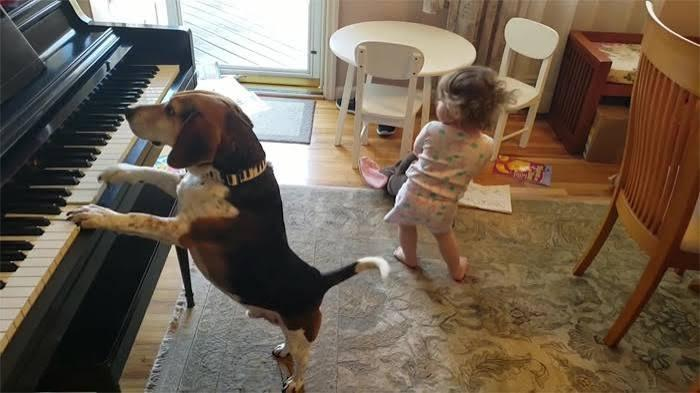adult_dog: (65, 87, 396, 393)
non-dog: (377, 65, 509, 284)
